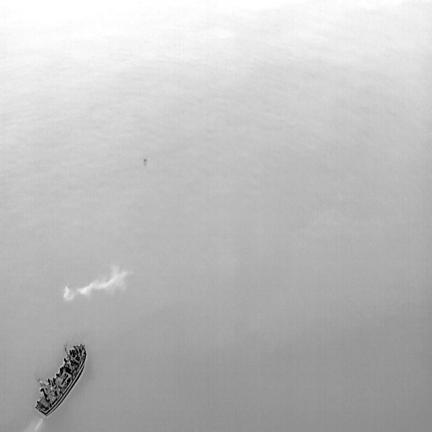flukeprints: (74, 267, 131, 295), (63, 286, 73, 300)
